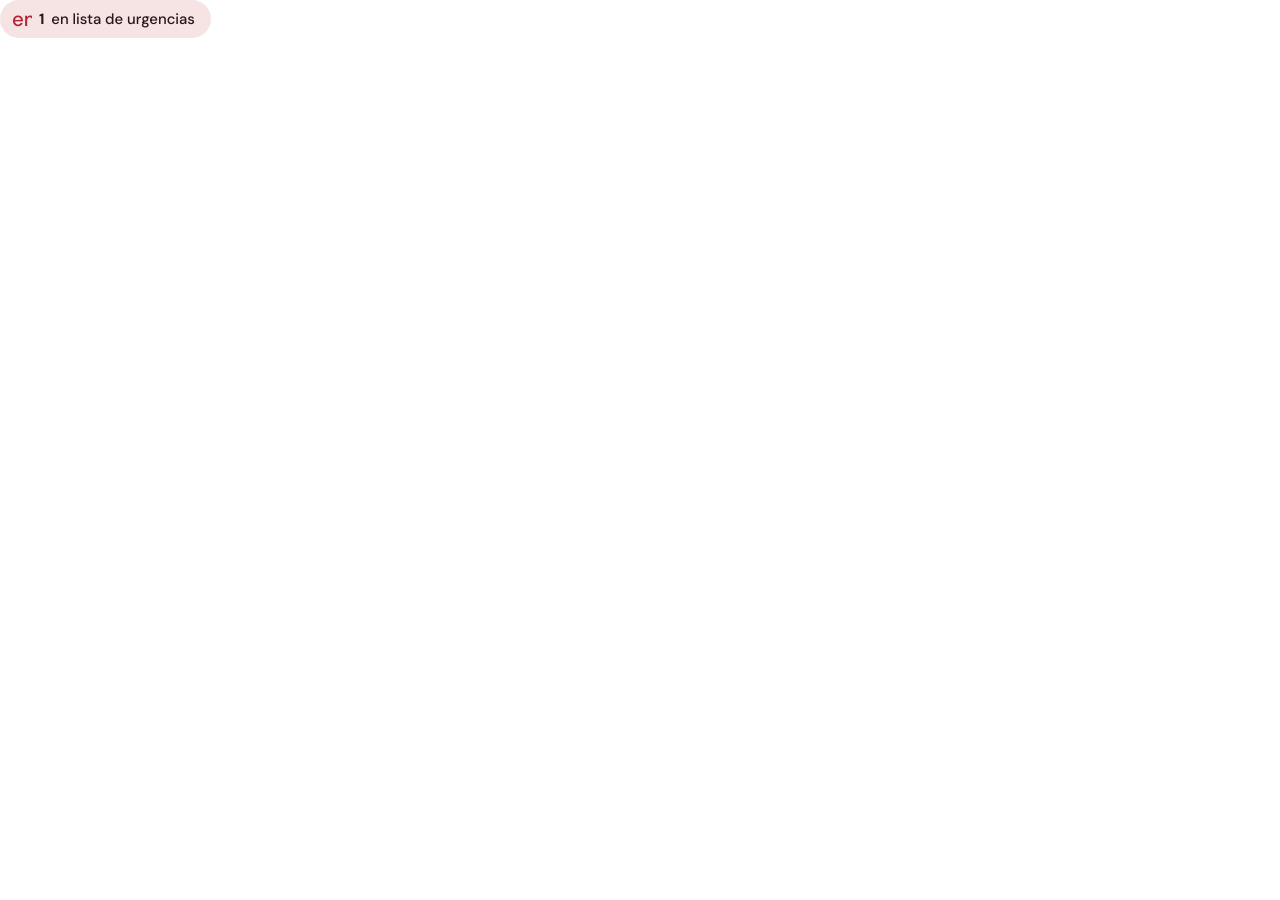
AgendaAvisos · hoja › Cerrar oculta la hoja
Step 1. Click the button "emergency 1 en lista de urgencias" → (106, 19), box x1=0 y1=0 x2=211 y2=38
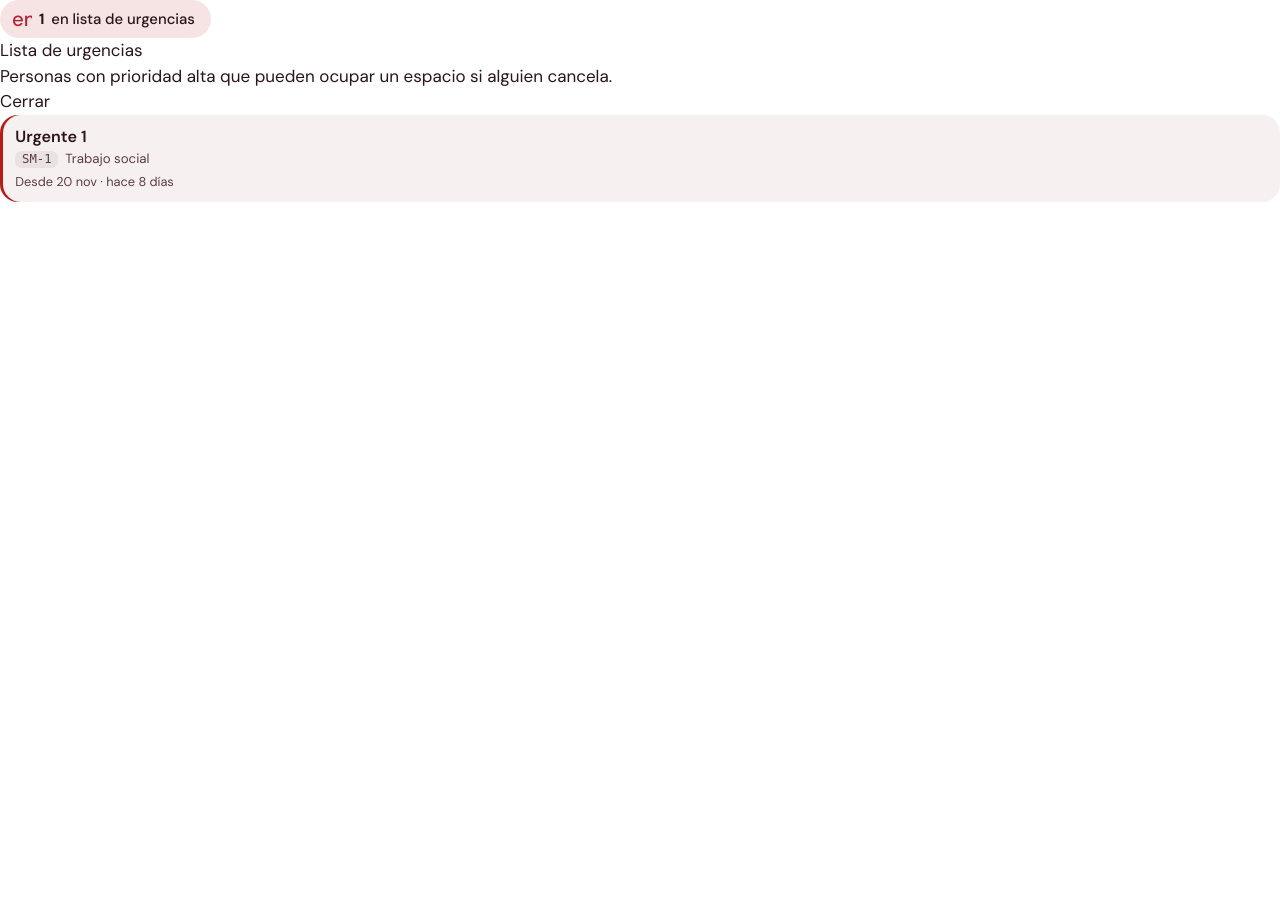
Check: the dialog is shown, box x1=0 y1=38 x2=1279 y2=202
Step 2. Click the button "Cerrar" → (25, 102), box x1=0 y1=89 x2=50 y2=115
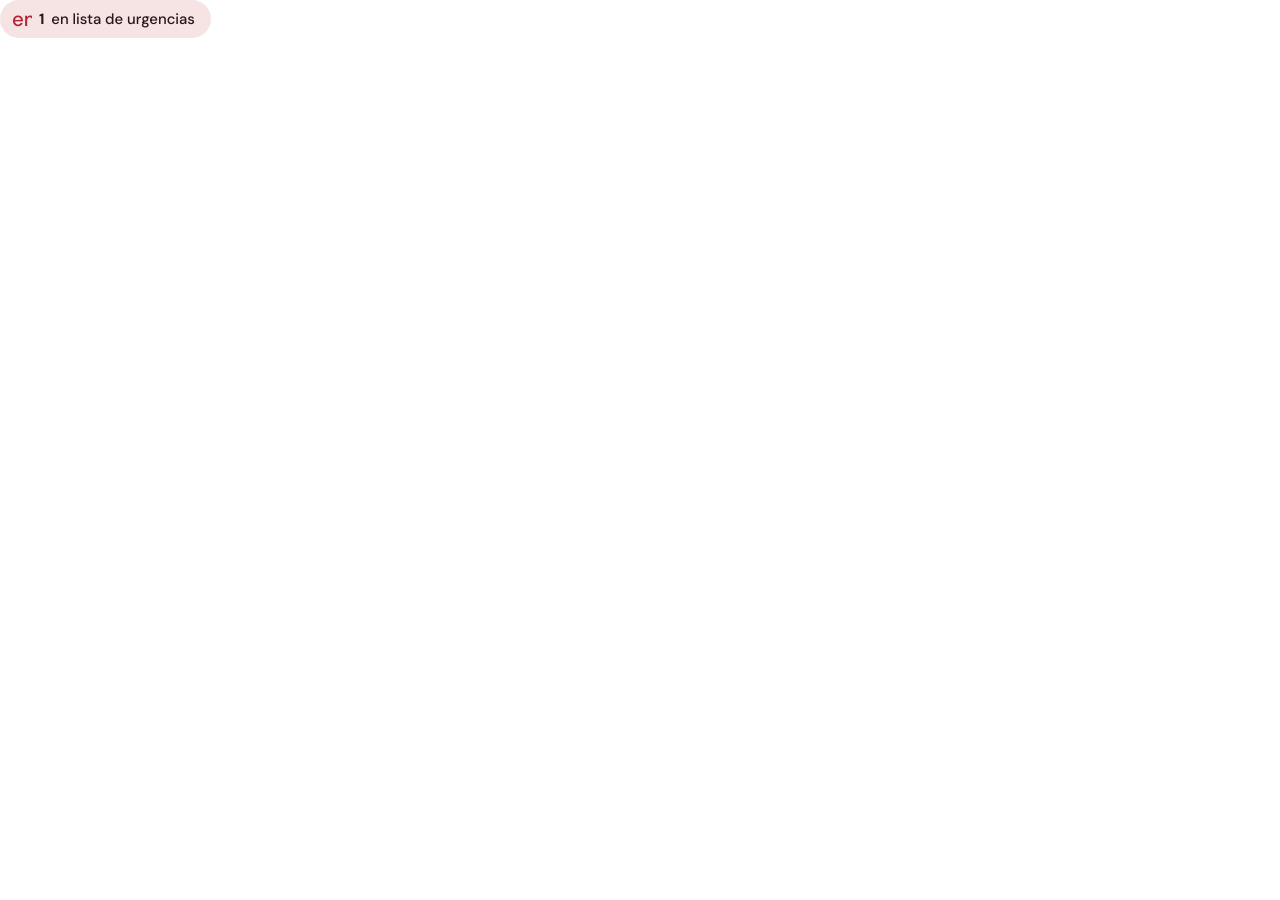
Check: the dialog is gone
